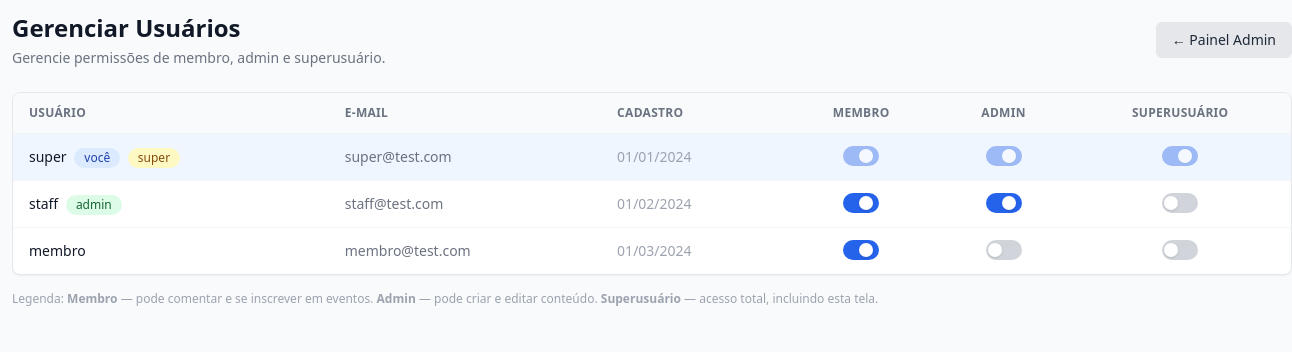
Test: UsersAdminPage — toggles › exibe mensagem de erro quando API falha
This screenshot has width=1292, height=352.
Expected: the text "membro@test.com" is shown, [329,228,601,274]
Step 1. Click the button named "Alternar is_staff de membro" → (1004, 250), box [986,240,1022,260]
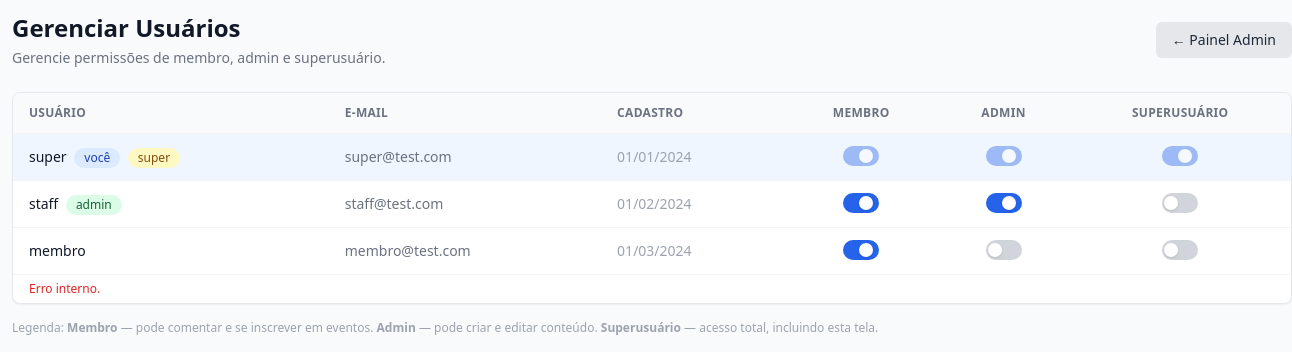
Now the text "Erro interno." is shown, box [13,274,1291,303]
